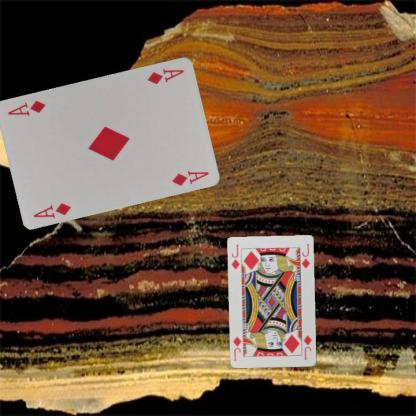Ad: (31, 200, 72, 220), (145, 65, 185, 85)
Jd: (301, 333, 313, 361), (229, 242, 241, 270)
